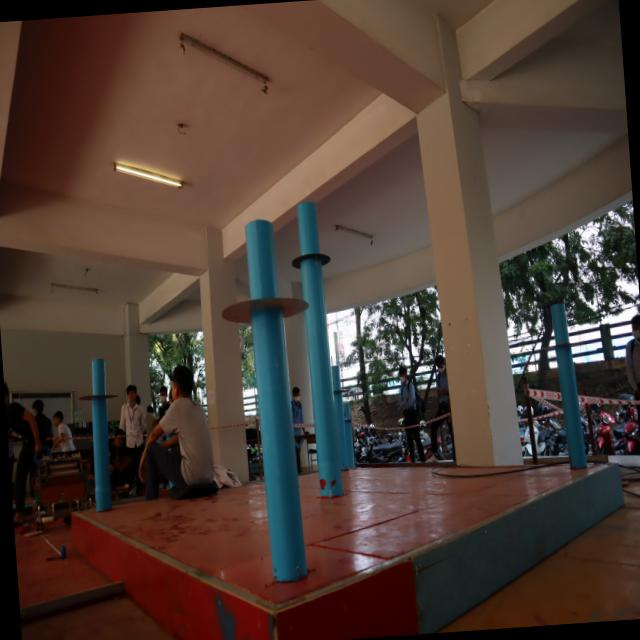pole: (208, 213, 312, 356), (284, 191, 338, 294), (72, 351, 120, 438), (539, 304, 585, 382)
